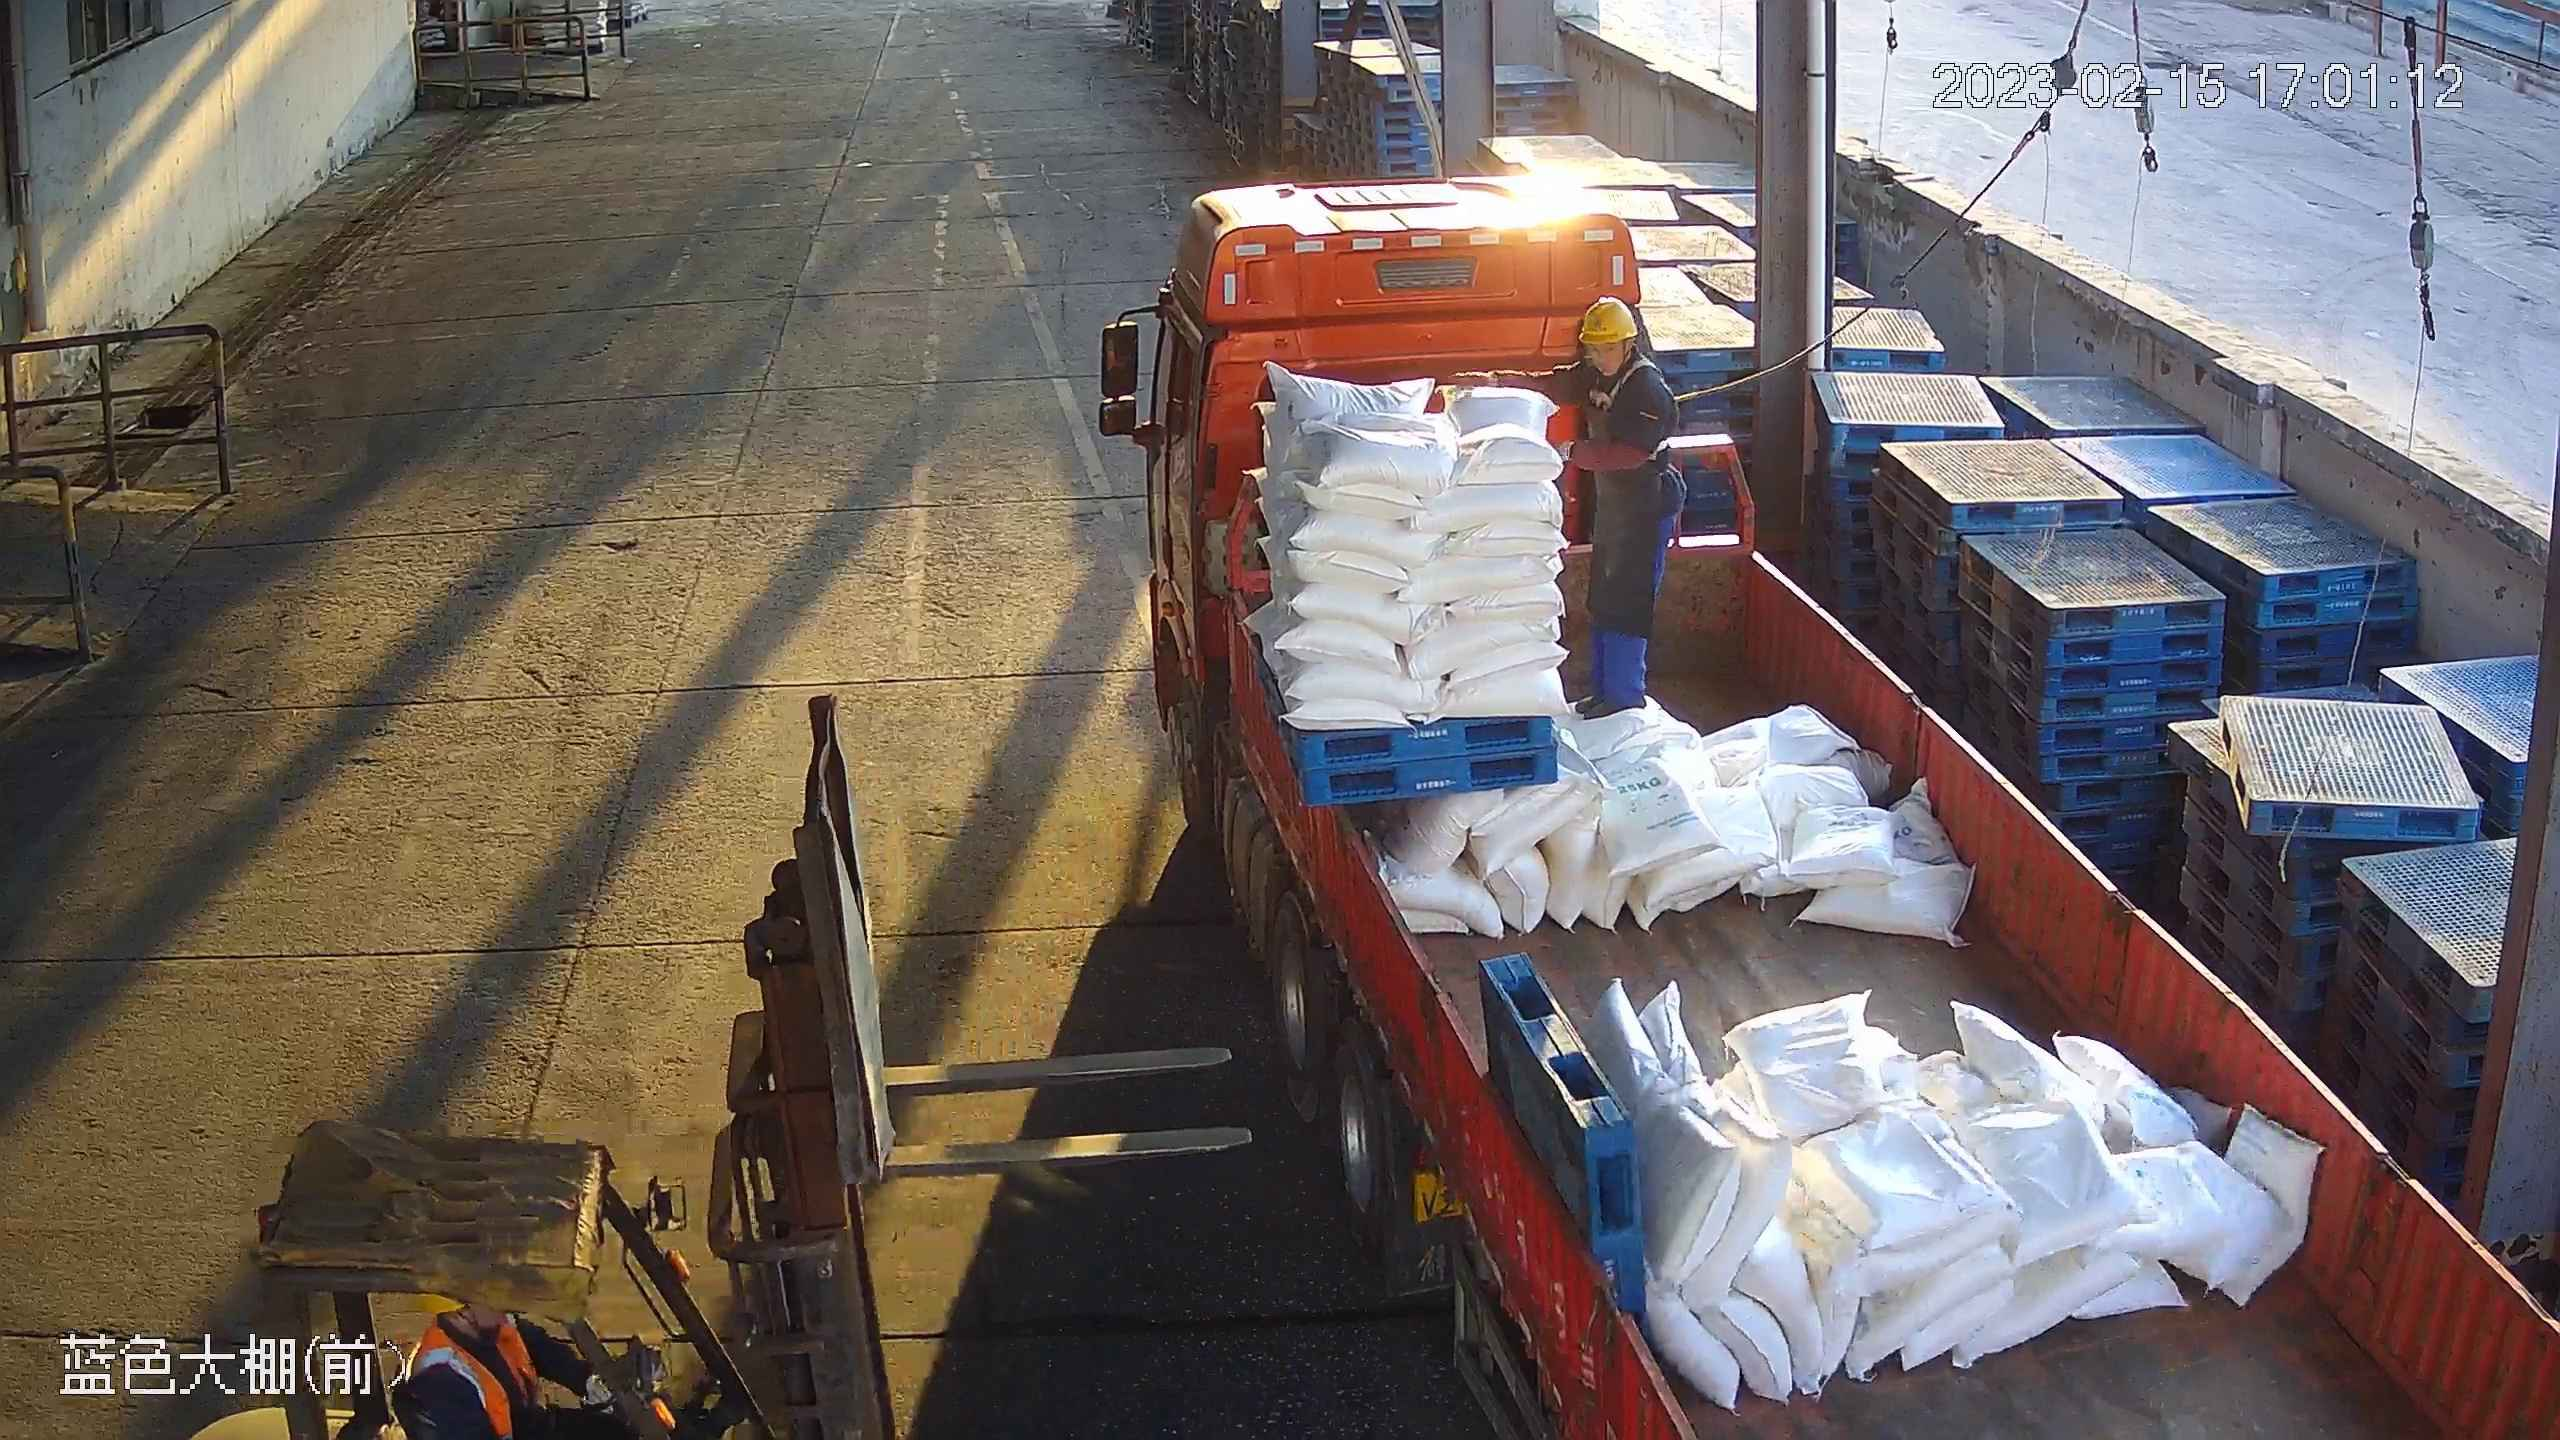belt: (1588, 351, 1681, 427)
head: (1540, 288, 1686, 443)
helmet: (1573, 291, 1636, 347)
people: (1538, 290, 1694, 716)
truck: (1099, 164, 2560, 1440)
